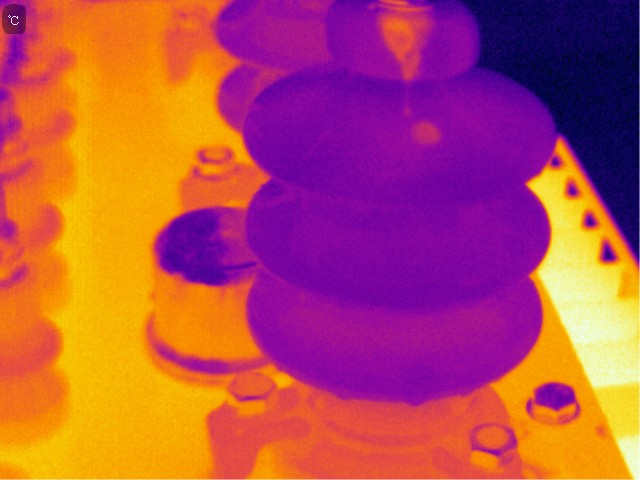Oil: (360, 1, 450, 86), (407, 118, 452, 158), (332, 386, 354, 404), (405, 393, 424, 412)
